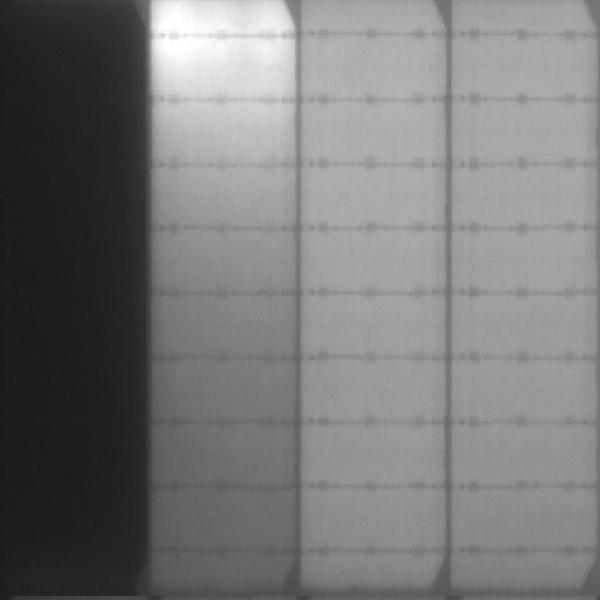hot_spot: (157, 39, 218, 50), (159, 13, 196, 31)
no_electricity: (1, 1, 151, 593)
